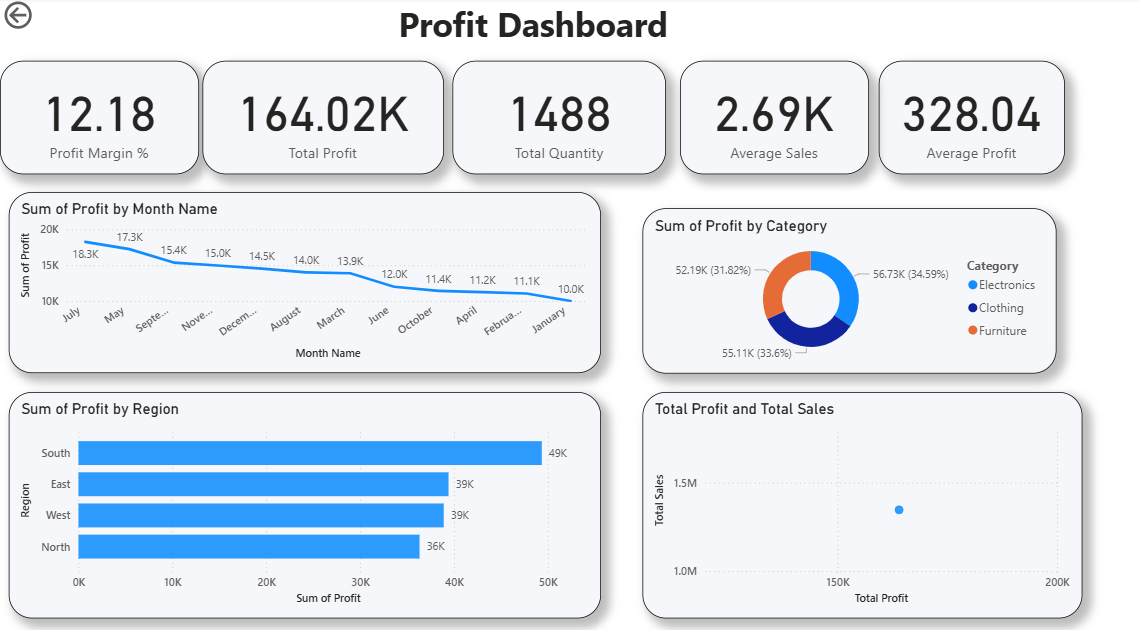

This screenshot's page, from the dashboard's own definition file:
{"tool":"powerbi","page":{"name":"Profit","canvas":[1280,720],"ordinal":4},"visuals":[{"type":"textbox","box":[208.7,0,769.4,94.6],"z":0},{"type":"card","fields":{"Values":["Orders.Profit Margin %"]},"box":[9.8,70.9,211.6,127.2],"z":1000},{"type":"card","fields":{"Values":["Orders.Average Profit"]},"box":[978.1,71,207.3,126.6],"z":2000},{"type":"card","fields":{"Values":["Orders.Total Profit"]},"box":[234.6,71.4,259.3,126.2],"z":3000},{"type":"card","fields":{"Values":["Orders.Average Sales"]},"box":[756.9,71,210.1,126.6],"z":4000},{"type":"card","fields":{"Values":["Orders.Total Quantity"]},"box":[503.7,71,237.9,126.6],"z":5000},{"type":"lineChart","fields":{"Y":["Sum(Orders.Profit)"],"Category":["Orders.Month Name"]},"box":[9.7,217,659.5,201.7],"z":6000},{"type":"clusteredBarChart","fields":{"Y":["Sum(Orders.Profit)"],"Category":["Orders.Region"]},"box":[9.7,439.7,659.5,251.8],"z":7000},{"type":"donutChart","fields":{"Y":["Sum(Orders.Profit)"],"Category":["Orders.Category"]},"box":[714.9,216.8,461.1,201.7],"z":8000},{"type":"scatterChart","fields":{"X":["Orders.Total Profit"],"Y":["Orders.Total Sales"]},"box":[715.1,439.7,489.7,251.8],"z":9000},{"type":"actionButton","box":[0,0,48.9,40.4],"z":10000}]}

Visuals, with their boxes in screenshot pixels (x1, y1, x2, y2), scaled from the page's 1280x720 canvas onto the 1140x630 screenshot:
textbox: l=186, t=0, r=871, b=83
card - Orders.Profit Margin %: l=9, t=62, r=197, b=173
card - Orders.Average Profit: l=871, t=62, r=1056, b=173
card - Orders.Total Profit: l=209, t=62, r=440, b=173
card - Orders.Average Sales: l=674, t=62, r=861, b=173
card - Orders.Total Quantity: l=449, t=62, r=660, b=173
lineChart - Sum(Orders.Profit) x Orders.Month Name: l=9, t=190, r=596, b=366
clusteredBarChart - Sum(Orders.Profit) x Orders.Region: l=9, t=385, r=596, b=605
donutChart - Sum(Orders.Profit) x Orders.Category: l=637, t=190, r=1047, b=366
scatterChart - Orders.Total Profit x Orders.Total Sales: l=637, t=385, r=1073, b=605
actionButton: l=0, t=0, r=44, b=35
